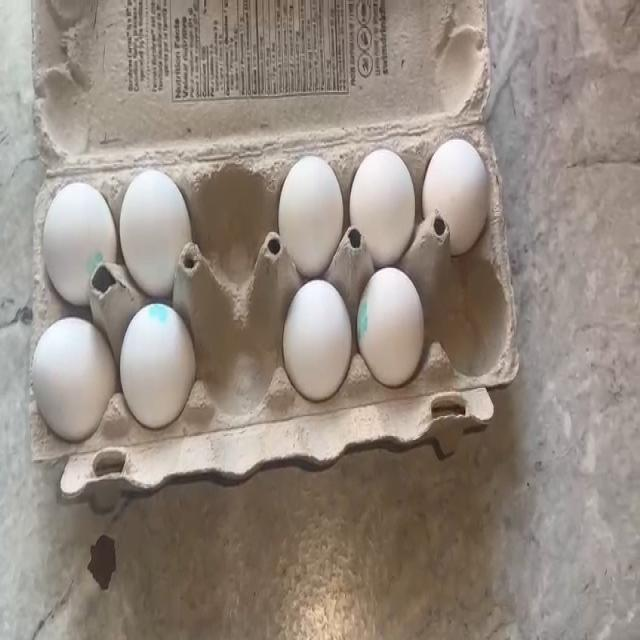Egg: (30, 319, 108, 441), (118, 310, 194, 422), (120, 170, 188, 276), (360, 276, 424, 370), (286, 288, 347, 386), (41, 179, 101, 278), (286, 164, 340, 266), (426, 138, 484, 231), (357, 147, 412, 245)
